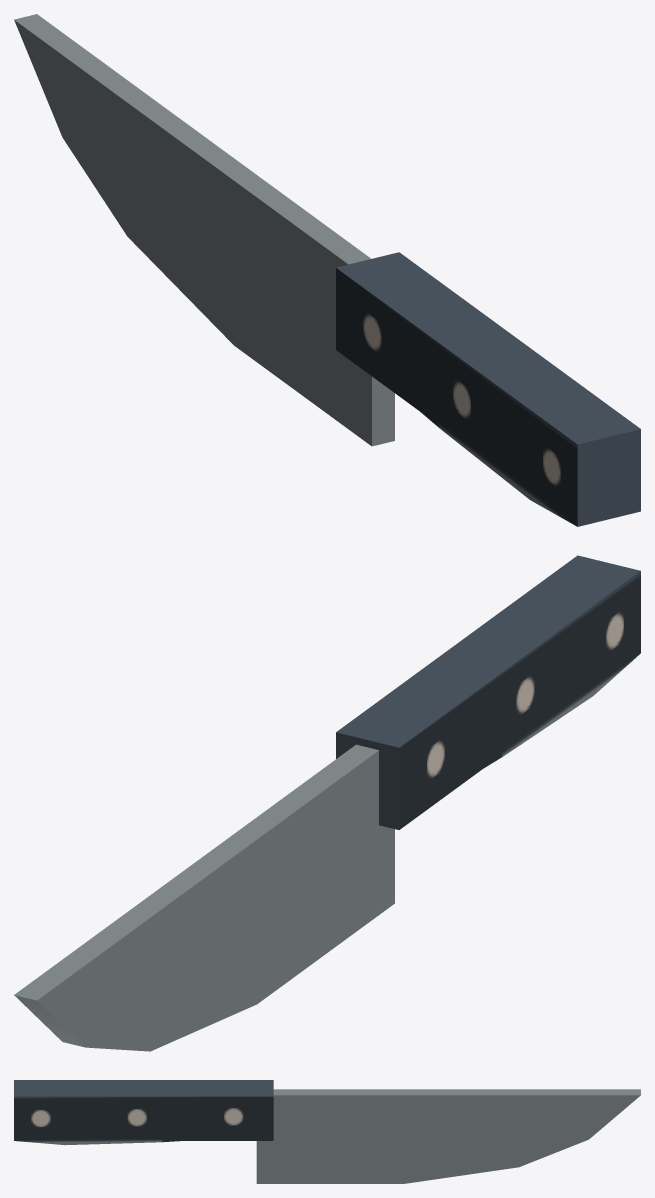
The model's file is Knife.fbx.
3 views of the same model, one above another, from view 1: azimuth 30°, elevation 25°; view 2: azimuth 150°, elevation 25°; view 3: azimuth 270°, elevation 25° (orthographic). The views are drawn at different scales.
Parts seen in each view (by area): view 1: GEOKnife; view 2: GEOKnife; view 3: GEOKnife.
Boxes of the visible parts, x1,y1,x2,y2 form: GEOKnife: (14, 14, 640, 526); GEOKnife: (14, 555, 640, 1051); GEOKnife: (14, 1080, 640, 1183).
Bounding box in the file's own units: 25.63 × 66.62 × 409.
